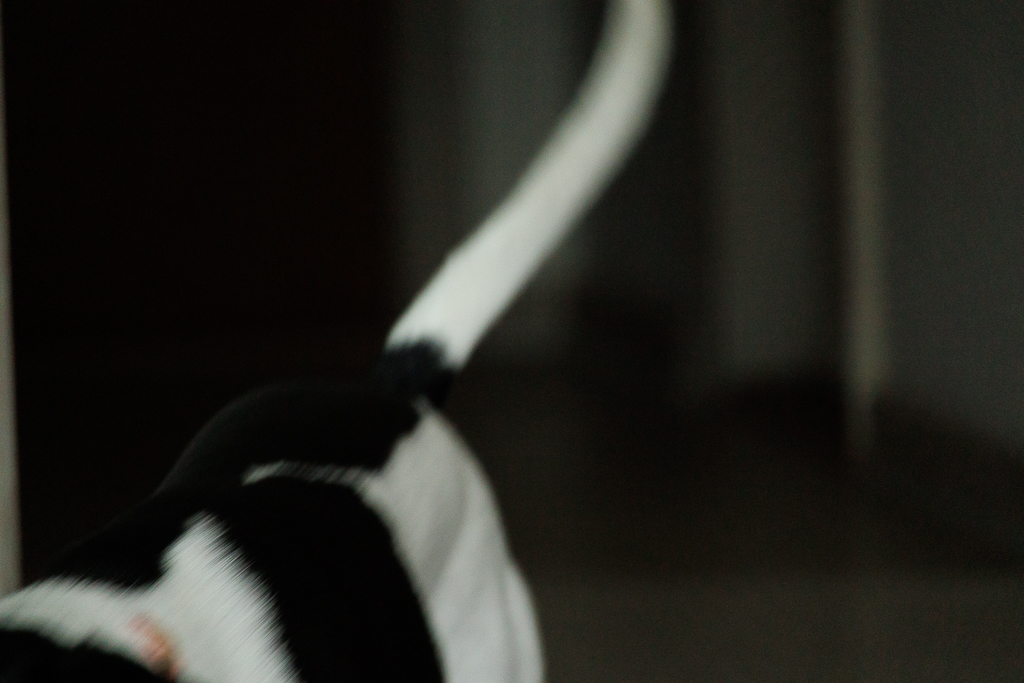Dog: (0, 0, 698, 683)
